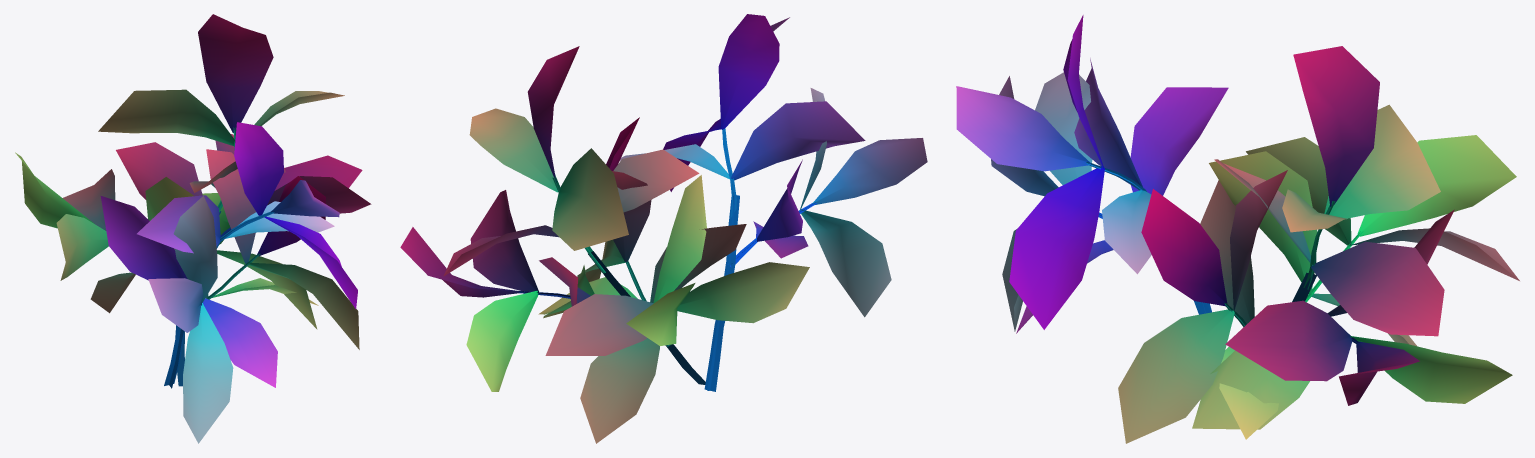
Rendered from European_Spindle_wk1ncbxja_Mid_wk1ncbxja_VarF_LOD1.fbx.
The picture shows the model from 3 angles, left to right: view 1: azimuth 30°, elevation 25°; view 2: azimuth 150°, elevation 25°; view 3: azimuth 270°, elevation 25°; orthographic projection. The views are drawn at different scales.
Parts seen in each view (by area): view 1: _s1se_VarF_LOD2; view 2: _s1se_VarF_LOD2; view 3: _s1se_VarF_LOD2.
Boxes of the visible parts, x1=… form: _s1se_VarF_LOD2: x1=15, y1=14, x2=371, y2=443; _s1se_VarF_LOD2: x1=400, y1=14, x2=927, y2=443; _s1se_VarF_LOD2: x1=956, y1=15, x2=1519, y2=443.
Bounding box in the file's own units: 26.66 × 23.75 × 30.04.
